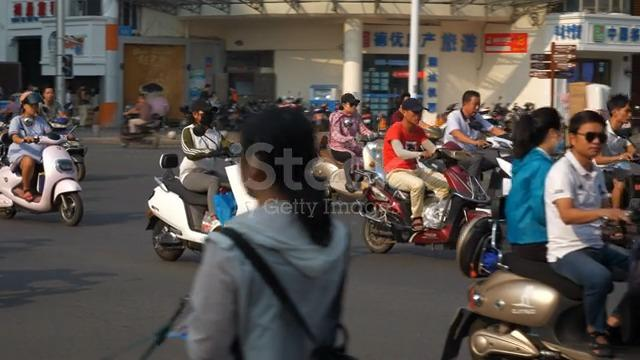nohelmet: (239, 105, 320, 218), (567, 109, 608, 160), (608, 93, 634, 127), (400, 97, 427, 129), (460, 90, 482, 119), (339, 92, 361, 116), (41, 84, 55, 103)
